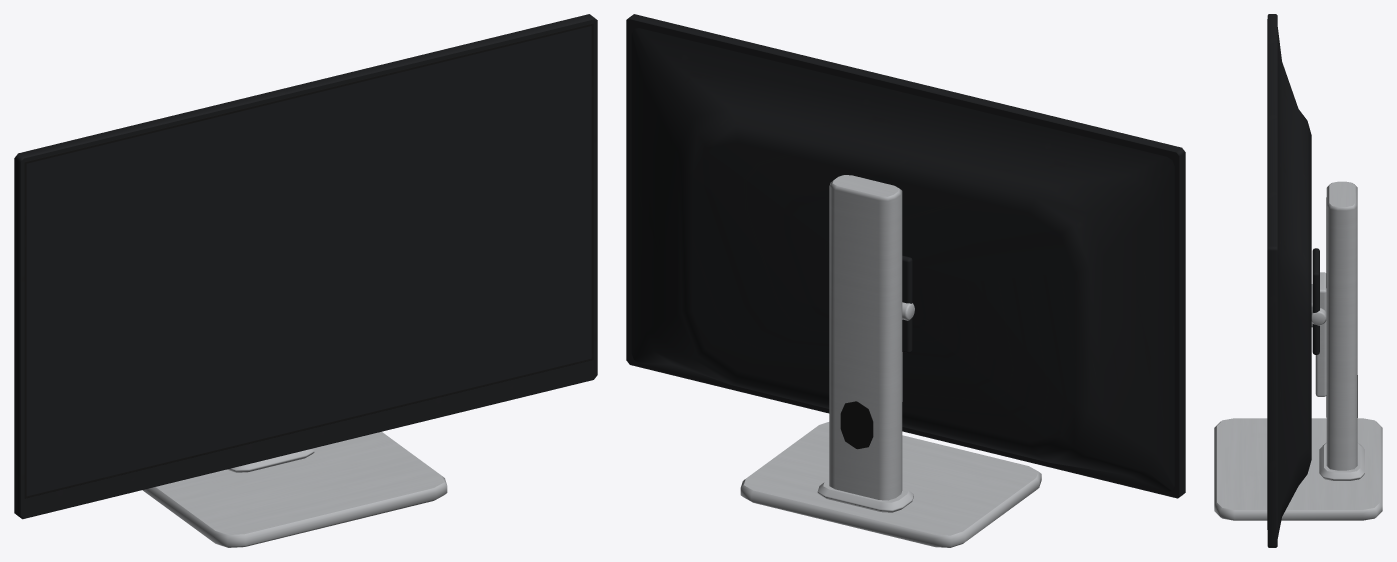
File: desktop-monitor.glb
3 views of the same model, side by side, from view 1: azimuth 30°, elevation 25°; view 2: azimuth 150°, elevation 25°; view 3: azimuth 270°, elevation 25° (orthographic). The views are drawn at different scales.
Visible parts, largest first — view 1: desktop-monitor; view 2: desktop-monitor; view 3: desktop-monitor.
Boxes of the visible parts, <box> form: desktop-monitor: <box>14,14,597,547</box>; desktop-monitor: <box>626,14,1185,547</box>; desktop-monitor: <box>1214,14,1382,547</box>.
Bounding box in the file's own units: 0.6113 × 0.418 × 0.185.
4 materials, 3 textured.
